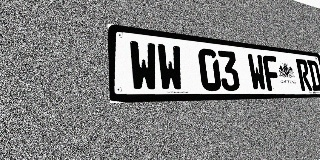0: (197, 48, 222, 91)
3: (217, 50, 240, 91)
D: (307, 60, 320, 91)
F: (262, 55, 282, 91)
R: (296, 59, 313, 91)
W: (129, 40, 159, 91), (156, 43, 184, 91), (247, 53, 267, 91)
